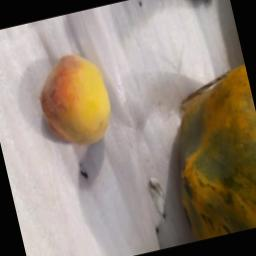Peach Unripe: (20, 35, 132, 165)
